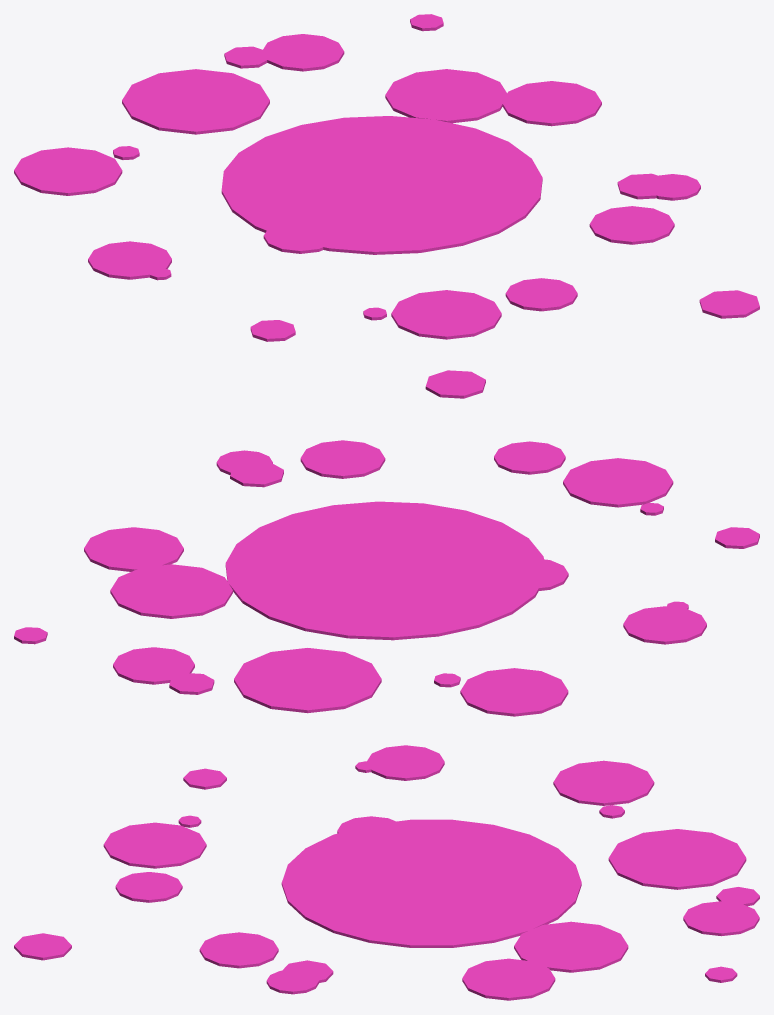
Rendered from paint-splat-magenta.glb.
3 views of the same model, one above another, from view 1: azimuth 30°, elevation 25°; view 2: azimuth 150°, elevation 25°; view 3: azimuth 270°, elevation 25° (orthographic). The views are drawn at different scales.
Visible parts, largest first — view 1: paint-splat-magenta; view 2: paint-splat-magenta; view 3: paint-splat-magenta.
Boxes of the visible parts, left/top/right/bottom form: paint-splat-magenta: left=14, top=14, right=759, bottom=341; paint-splat-magenta: left=14, top=370, right=759, bottom=716; paint-splat-magenta: left=14, top=745, right=759, bottom=1000.
Size of the model in its own units: 5.98 by 0.03 by 7.46.
